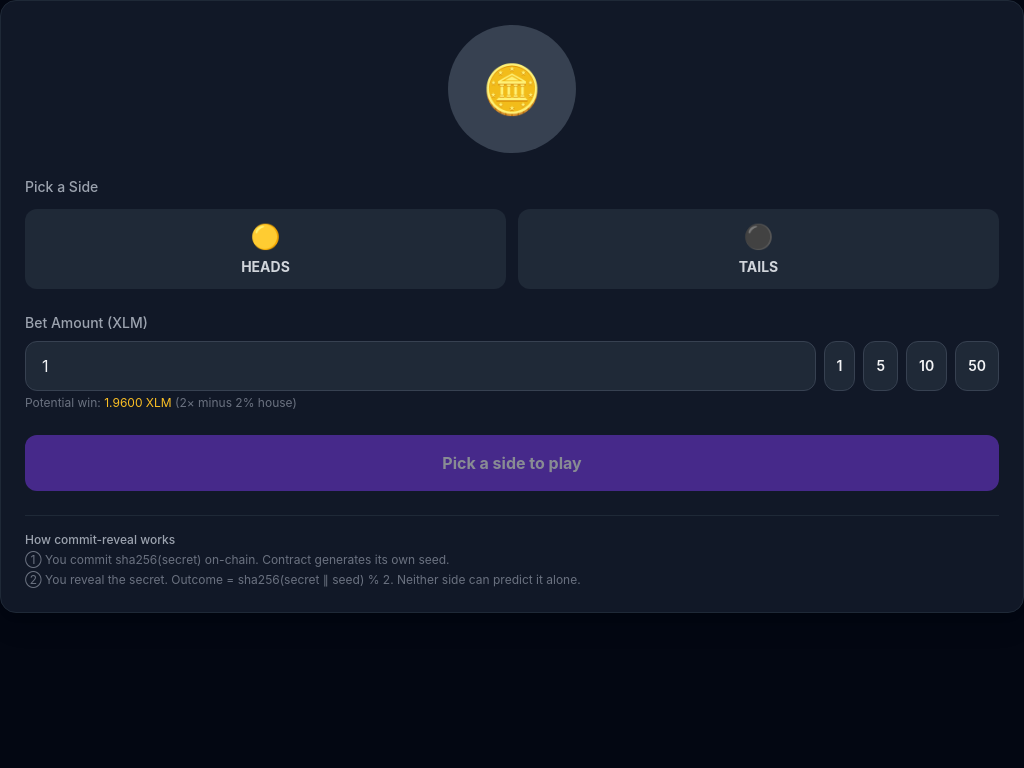
Test case: CoinFlipGame › submit button is disabled when bet amount is empty
Click the button "🟡 HEADS": (266, 249) x1=25 y1=209 x2=506 y2=289
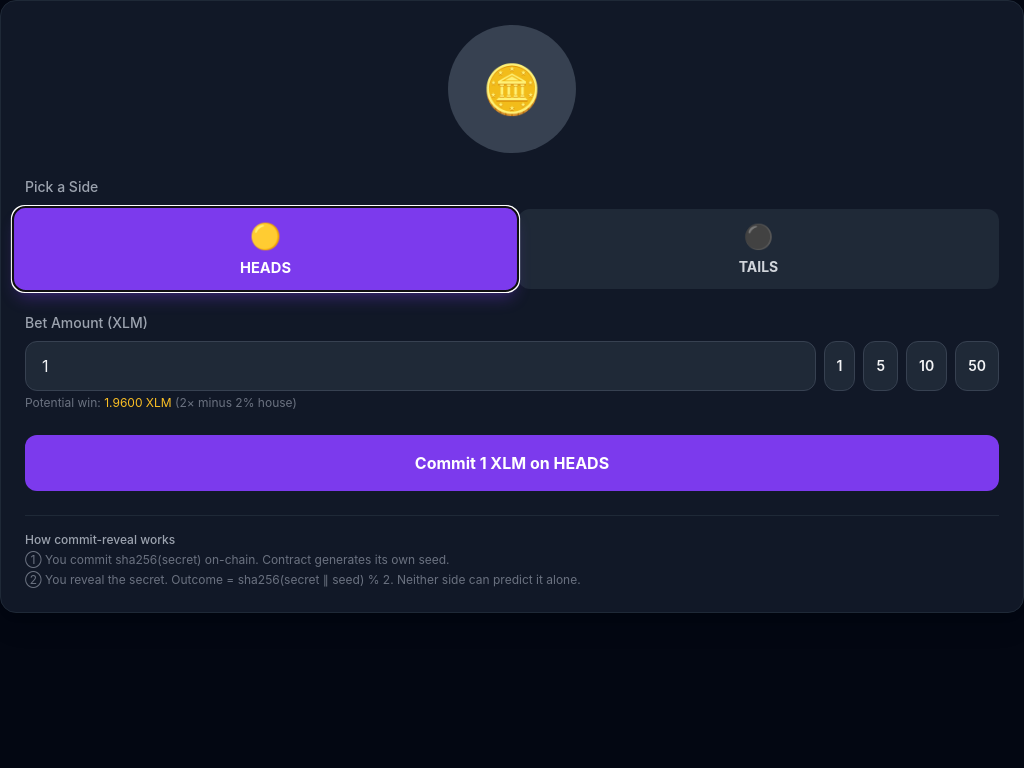
Clear the number field with placeholder "0.1–500": (420, 366) x1=25 y1=341 x2=816 y2=391
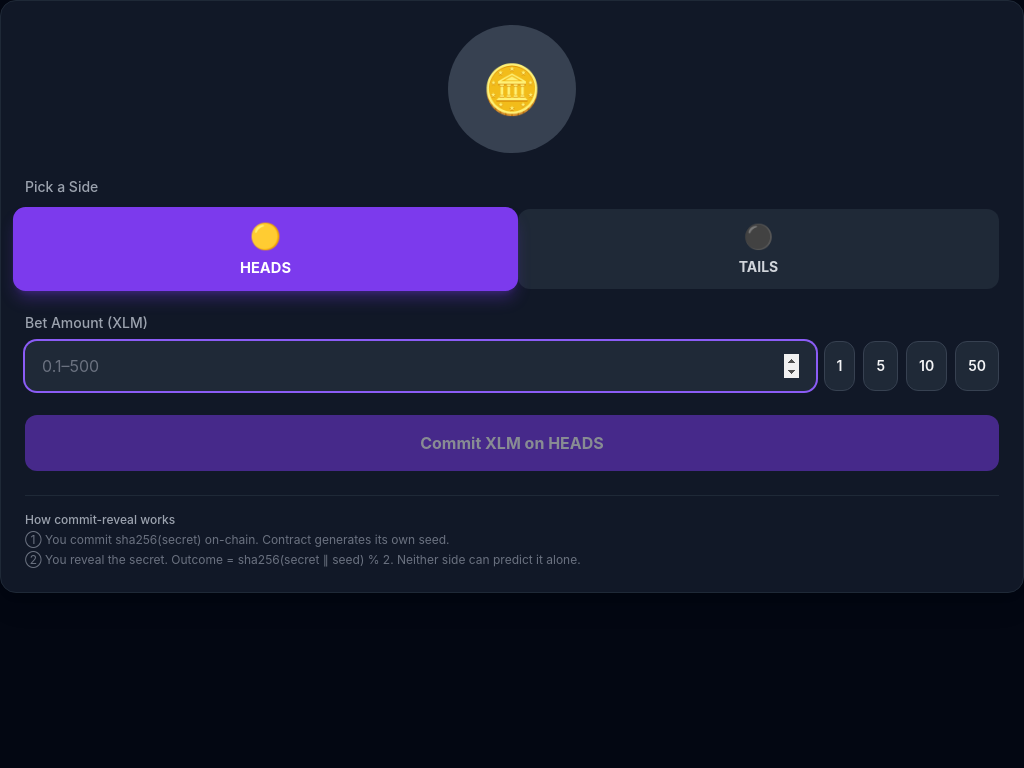
Expected: the button "Commit XLM on HEADS" is disabled, x1=25 y1=415 x2=999 y2=471
